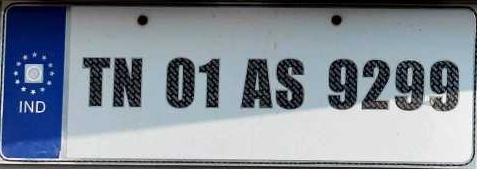character: (77, 54, 113, 108), (238, 56, 274, 109), (111, 54, 143, 109), (393, 59, 426, 112), (427, 59, 460, 112), (164, 55, 195, 109), (274, 56, 305, 110), (327, 57, 358, 109), (361, 57, 390, 110), (196, 56, 222, 108)
